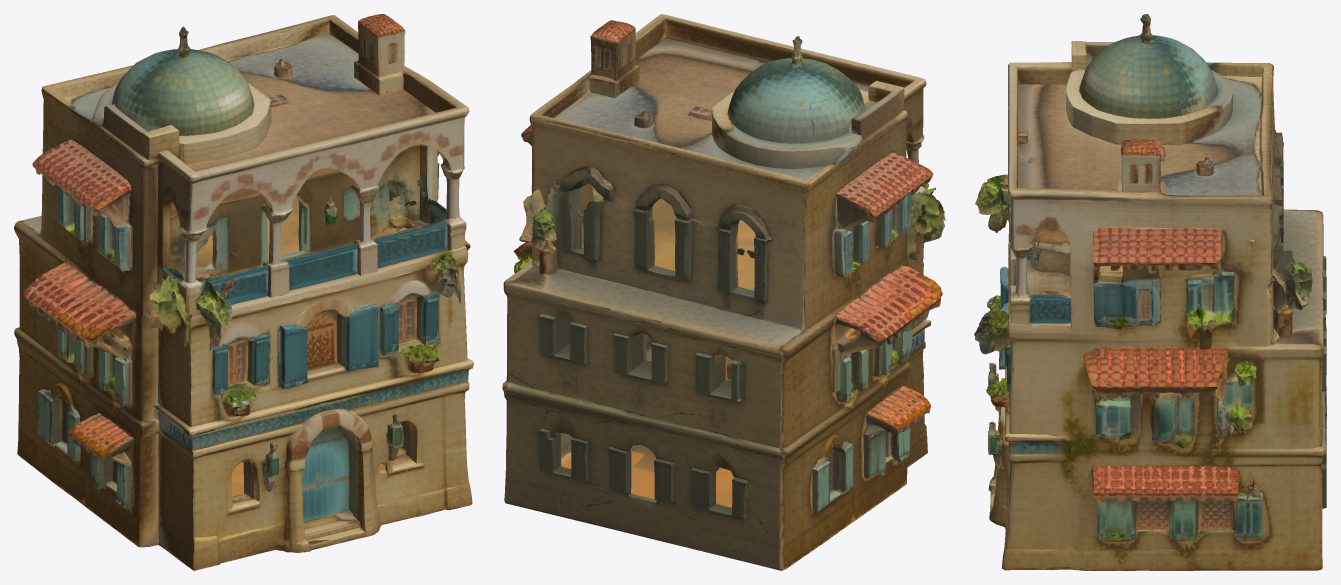
Rendered from old_house_akko.glb.
3 views of the same model, side by side, from view 1: azimuth 30°, elevation 25°; view 2: azimuth 150°, elevation 25°; view 3: azimuth 270°, elevation 25° (orthographic). The views are drawn at different scales.
Visible parts, largest first — view 1: geometry_0; view 2: geometry_0; view 3: geometry_0.
Part boxes in pixels (<box>): geometry_0: <box>14,14,473,570</box>; geometry_0: <box>502,14,945,570</box>; geometry_0: <box>974,14,1326,570</box>.
Size of the model in its own units: 11.06 by 13 by 9.12.
Materials: 1 (1 with a texture image).
